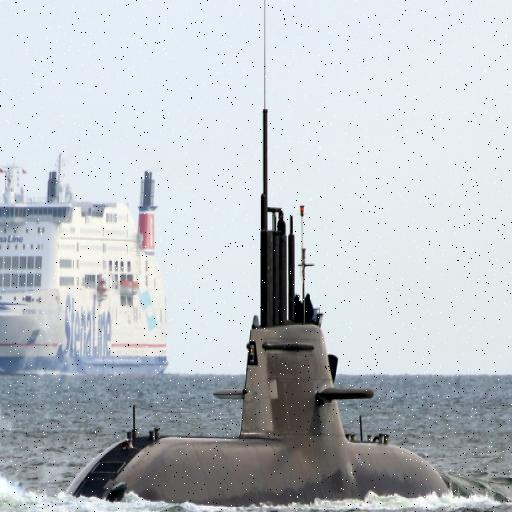submarine: (1, 1, 512, 510)
